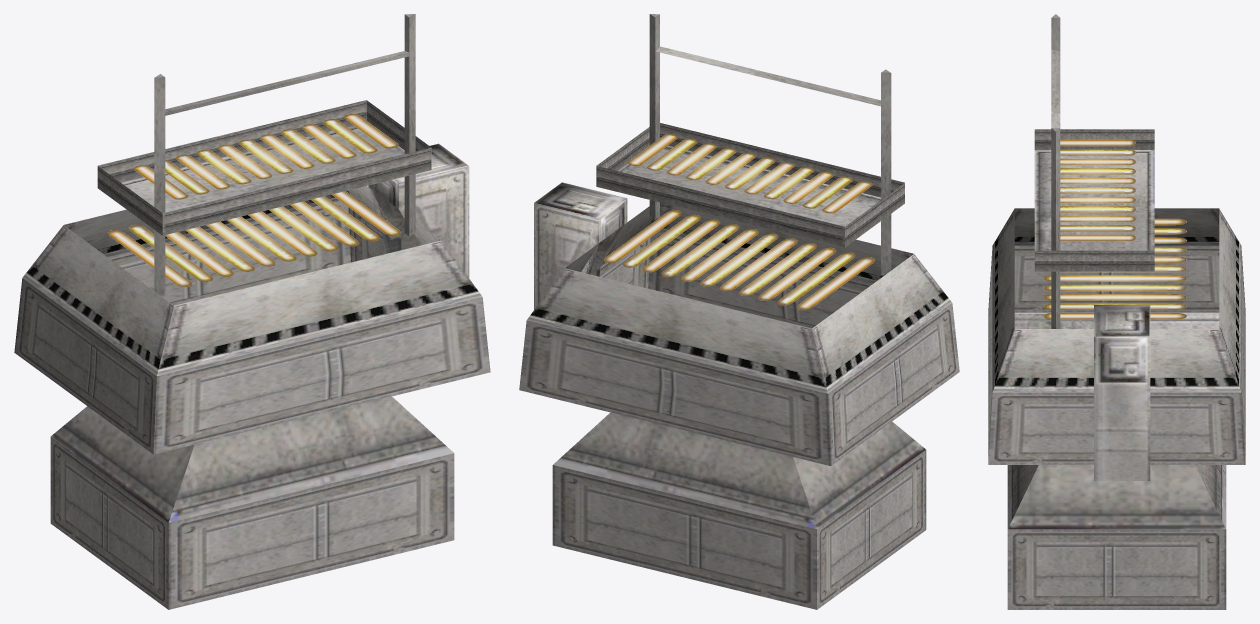
The model's file is eqp_camping_spit_s2_l1.fbx.
3 views of the same model, side by side, from view 1: azimuth 30°, elevation 25°; view 2: azimuth 150°, elevation 25°; view 3: azimuth 270°, elevation 25° (orthographic). The views are drawn at different scales.
Parts seen in each view (by area): view 1: mesh_node; view 2: mesh_node; view 3: mesh_node.
Boxes of the visible parts, x1,y1,x2,y2 form: mesh_node: (14, 14, 490, 609); mesh_node: (519, 14, 959, 609); mesh_node: (988, 14, 1245, 609).
Bounding box in the file's own units: 0.9117 × 1.19 × 0.5895.
